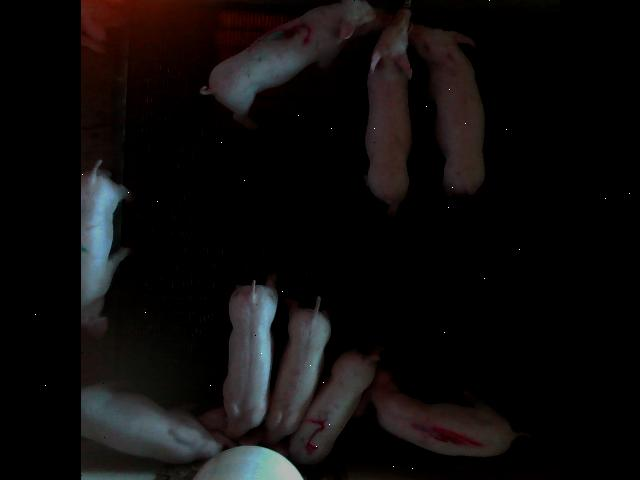pig-1: (352, 366, 530, 456)
pig-3: (201, 0, 391, 130)
pig-5: (288, 345, 382, 464)
